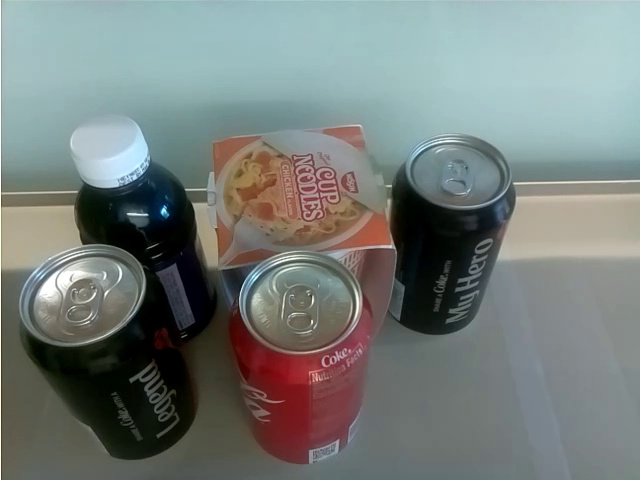cocacola: (224, 252, 374, 466)
cocacola-zero: (14, 246, 196, 460), (392, 132, 518, 333)
juice: (70, 116, 214, 344)
noodles: (203, 119, 394, 333)
